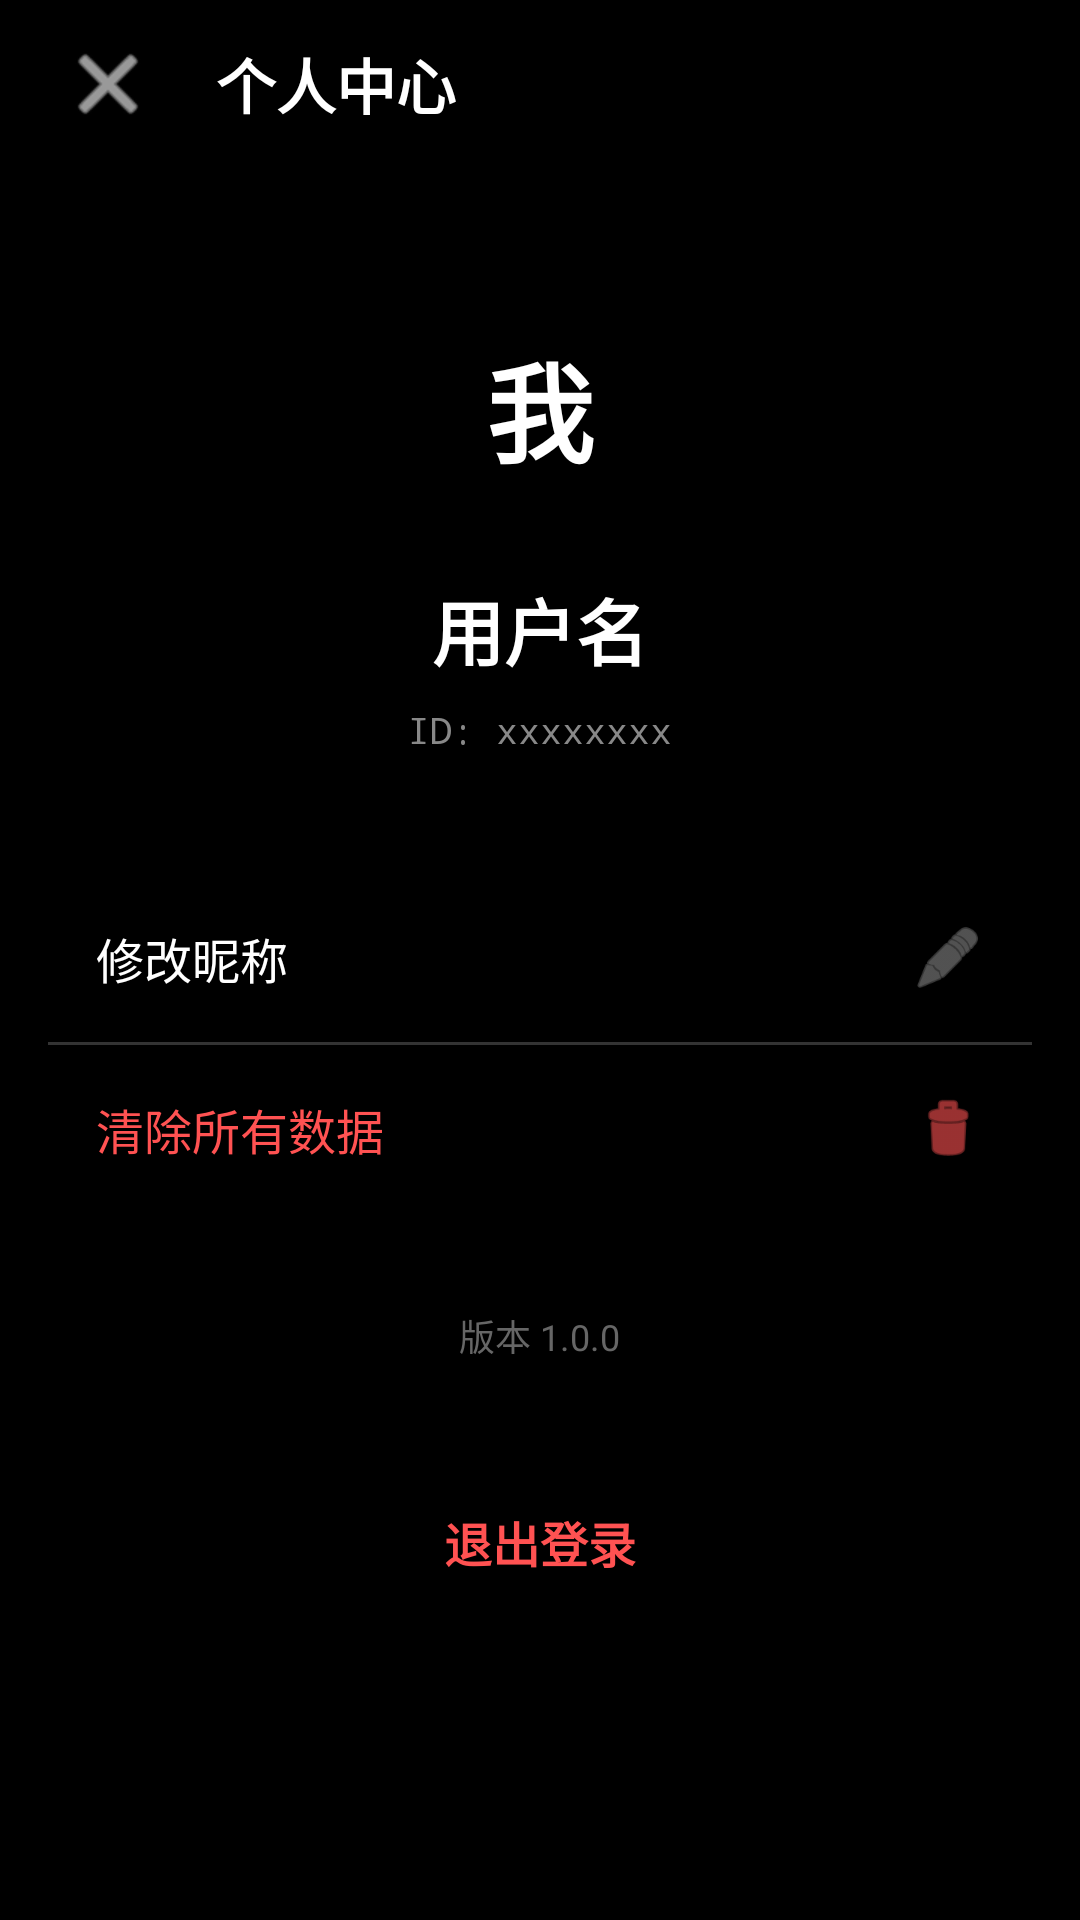

Where icons sit on this 1080×1920 app screen, as (x1, y1, x2, y2):
delete: (928, 1100, 969, 1156)
edit: (917, 927, 978, 988)
返回: (78, 54, 138, 114)
